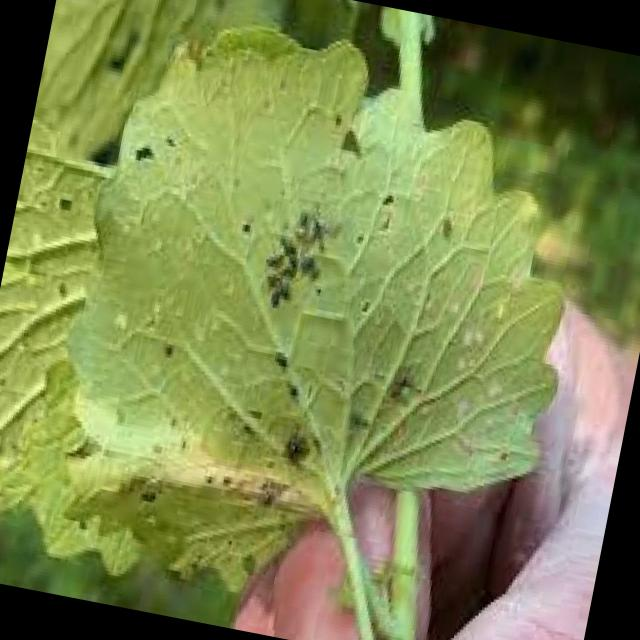aphid: (258, 235, 288, 272), (240, 392, 268, 423), (134, 476, 161, 507), (230, 411, 261, 438), (266, 341, 293, 372), (292, 244, 318, 276), (155, 330, 180, 362), (273, 228, 302, 255), (262, 279, 284, 309), (214, 465, 238, 491), (280, 374, 304, 400), (274, 275, 296, 301), (162, 404, 182, 430), (292, 201, 312, 227), (172, 427, 191, 452), (198, 465, 218, 488)
